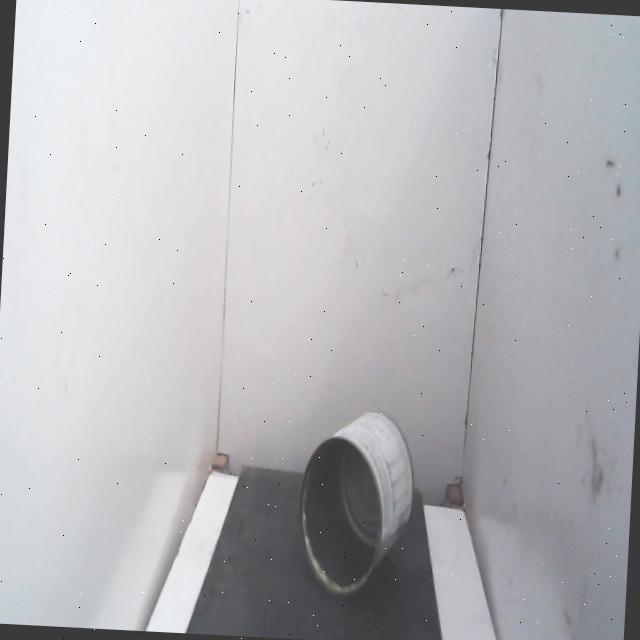metal: (290, 399, 428, 606)
